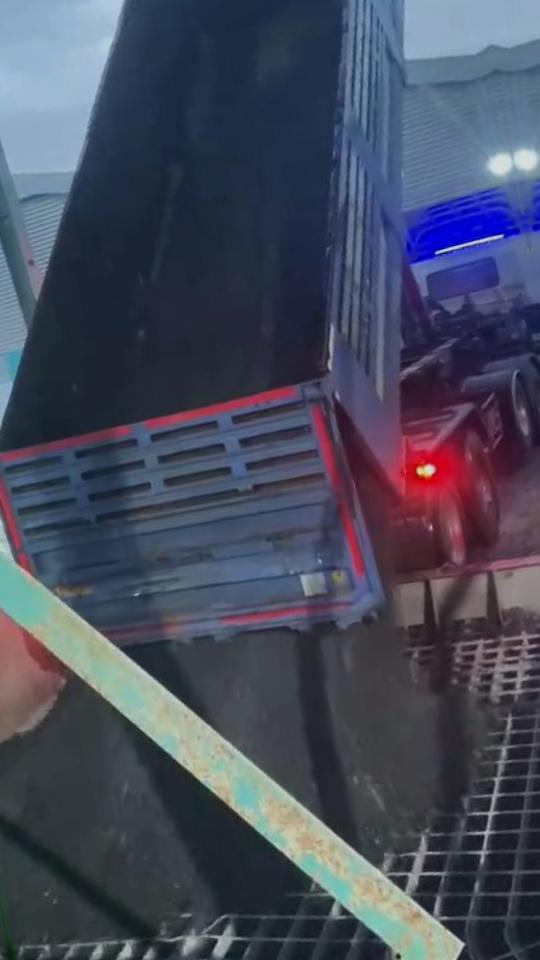gravel: (131, 616, 489, 860), (128, 19, 335, 417), (0, 680, 307, 943)
